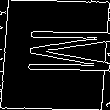M_E: (1, 31, 109, 79)
